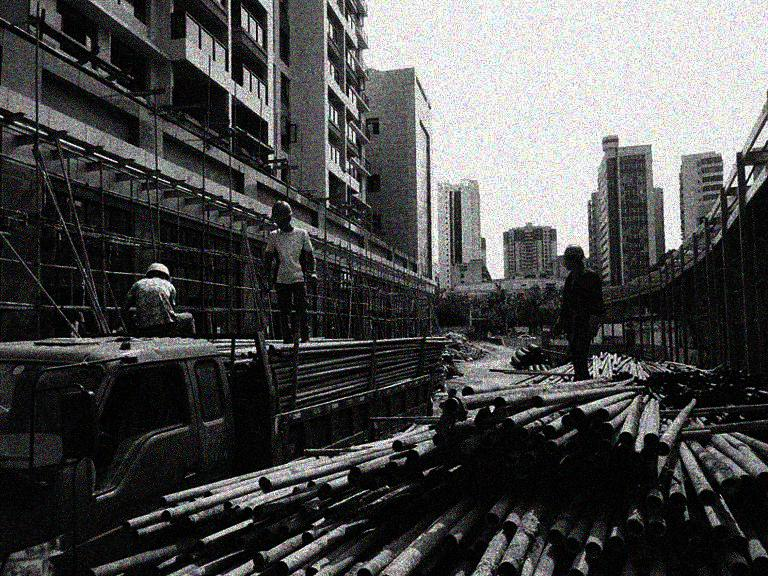helmet: (269, 200, 295, 232), (561, 242, 587, 272), (147, 260, 173, 283)
